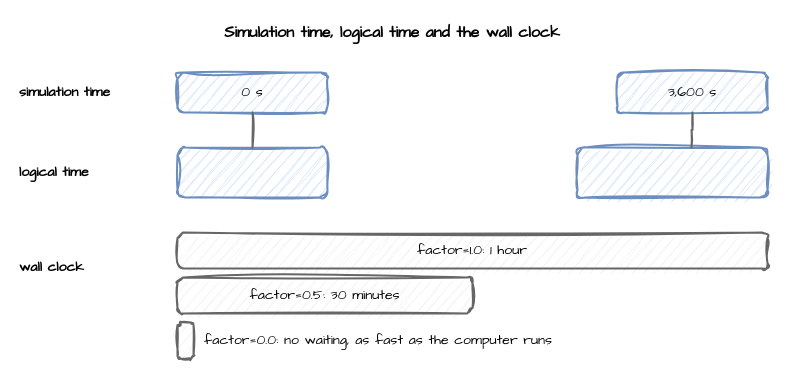
The diagram is 785 pixels wide and 376 high, and some of its shapes have lost their labels. The shapes that lost their labels are listed below. From the top down, each one's box as (x1, y1, x2, y2) in pixels, then its label:
(176, 146, 328, 198): 09:00 logical_start_time
(576, 146, 768, 198): 10:00 logical_start_time + 3,600 s
